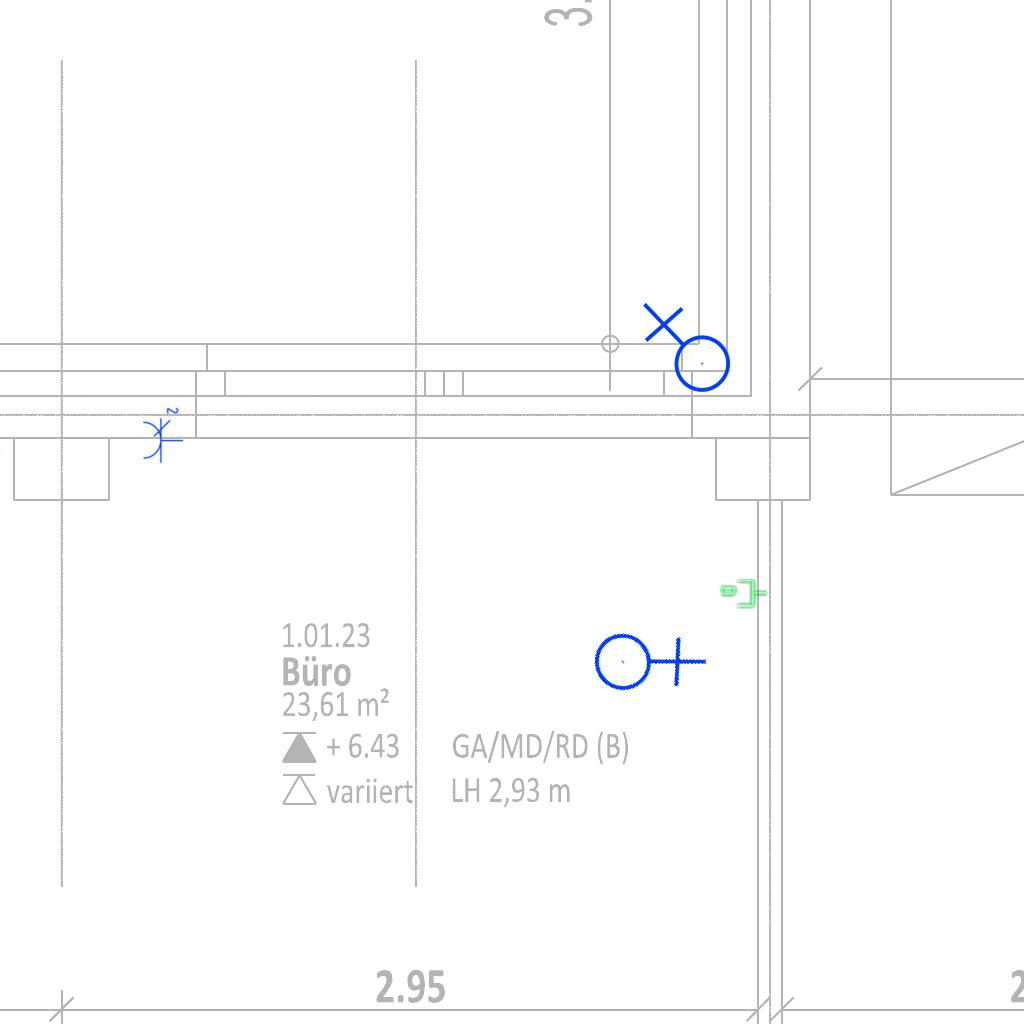Datenanschluss_einfach: (719, 577, 769, 611)
Elektroanschluss_allgemein_230V_Geraeteanschlussdose_230V: (575, 589, 712, 727), (638, 302, 732, 401)
Schukosteckdose_mehrfach: (140, 404, 184, 464)
